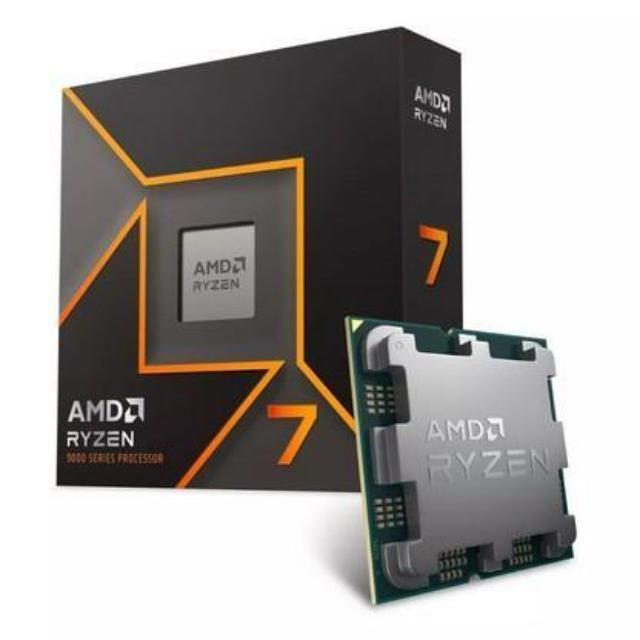CPU: (348, 320, 580, 598)
